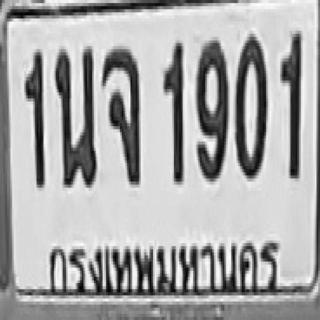A08: (102, 46, 140, 185)
A25: (54, 46, 98, 188)
N00: (234, 32, 267, 177)
N01: (162, 40, 184, 184), (280, 31, 301, 178), (24, 49, 44, 188)
N09: (195, 37, 228, 182)
P04: (42, 231, 291, 302)
